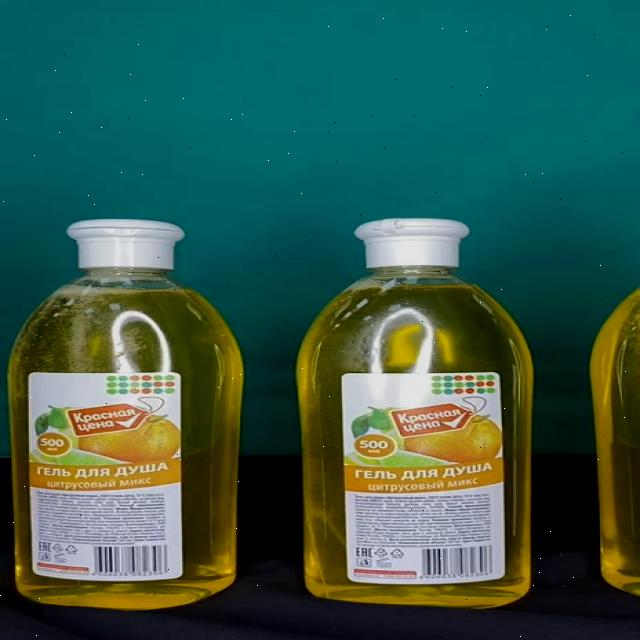Bottle: (296, 219, 535, 609), (9, 219, 244, 610)
Cap: (63, 220, 183, 270), (351, 218, 468, 267)
